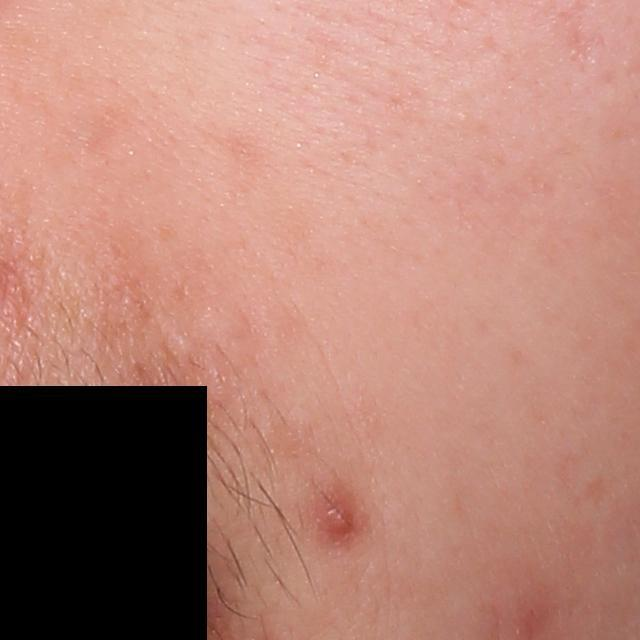papule: (318, 497, 358, 546)
